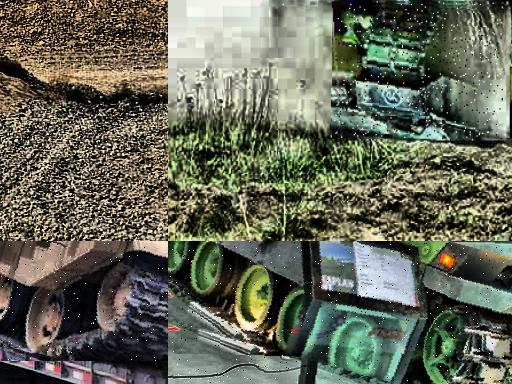tanks: (335, 2, 504, 141), (1, 242, 169, 362), (406, 242, 512, 384), (169, 242, 314, 340), (279, 1, 310, 6)
